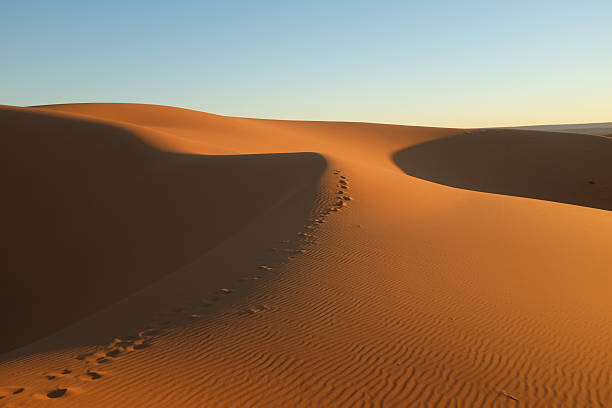human_foot_print: (0, 285, 239, 405), (0, 328, 162, 406), (255, 170, 351, 278), (0, 386, 25, 406)
